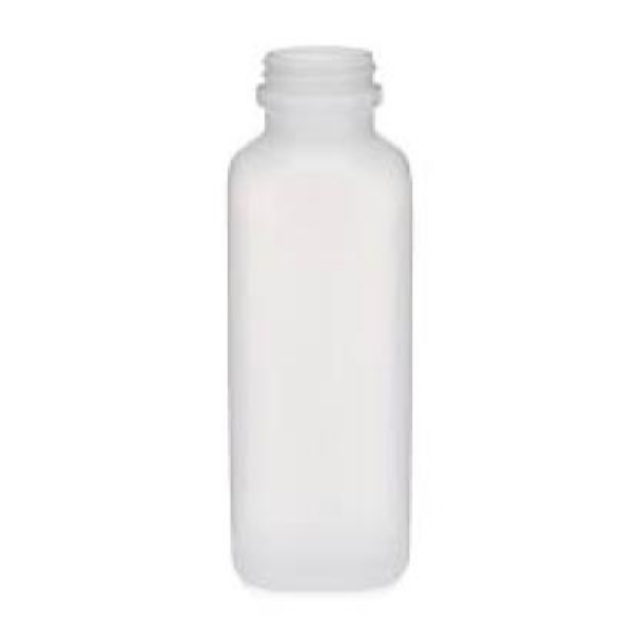trash: (229, 46, 411, 588)
